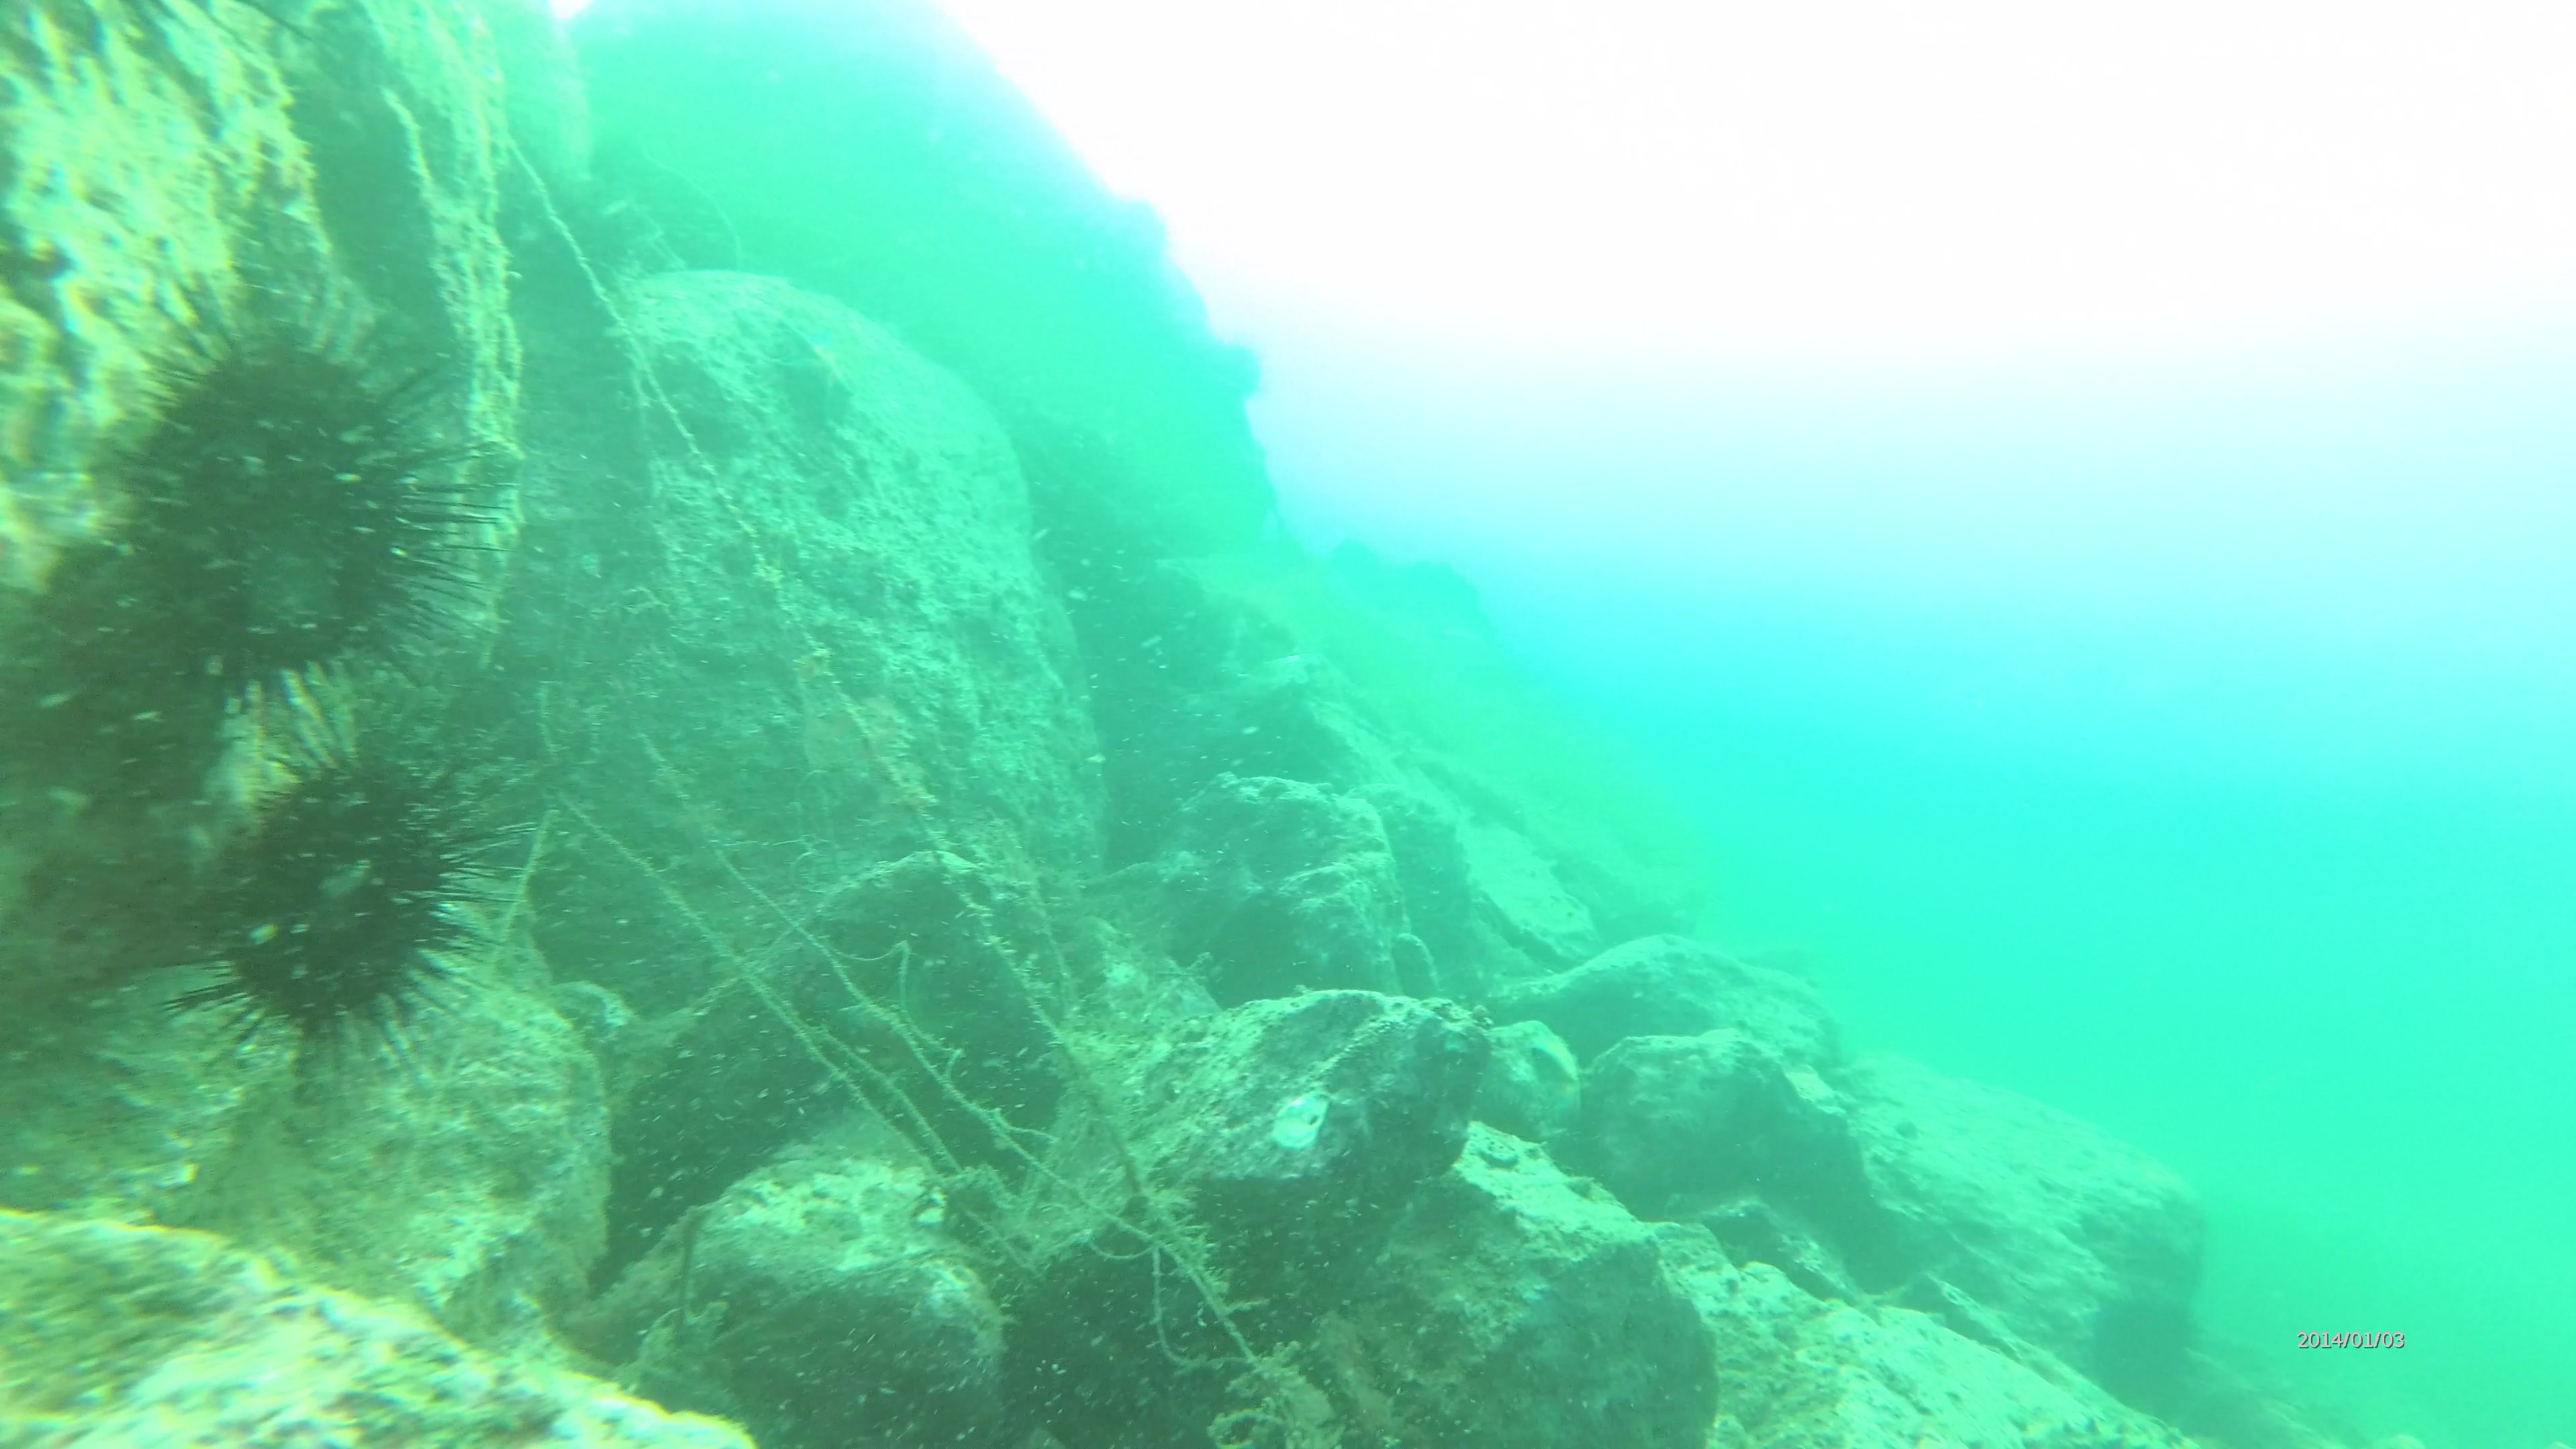echinus: (111, 324, 437, 681), (196, 761, 479, 1058), (19, 548, 242, 801)
